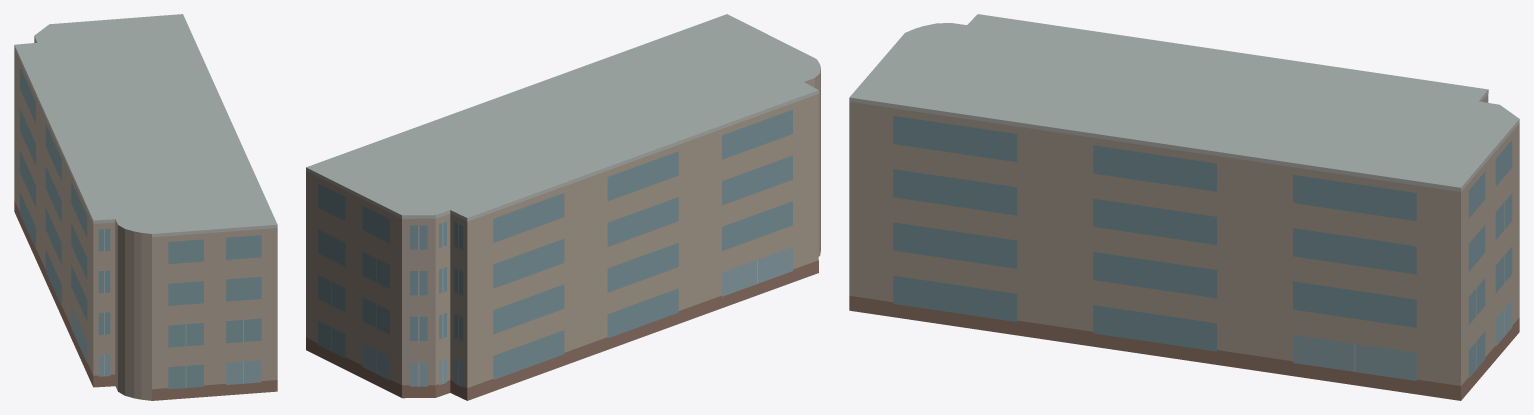
File: survey-upis-32933178.glb
3 renders of one model, left to right at view 1: azimuth 30°, elevation 25°; view 2: azimuth 150°, elevation 25°; view 3: azimuth 270°, elevation 25°, orthographic. The views are drawn at different scales.
Parts seen in each view (by area): view 1: survey-upis-32933178.tmp; view 2: survey-upis-32933178.tmp; view 3: survey-upis-32933178.tmp.
Boxes of the visible parts, box(x1,y1,x2,y2) form: survey-upis-32933178.tmp: box(14, 14, 277, 400); survey-upis-32933178.tmp: box(306, 14, 820, 400); survey-upis-32933178.tmp: box(849, 14, 1519, 400).
Size of the model in its own units: 21.69 by 12.4 by 35.36.
